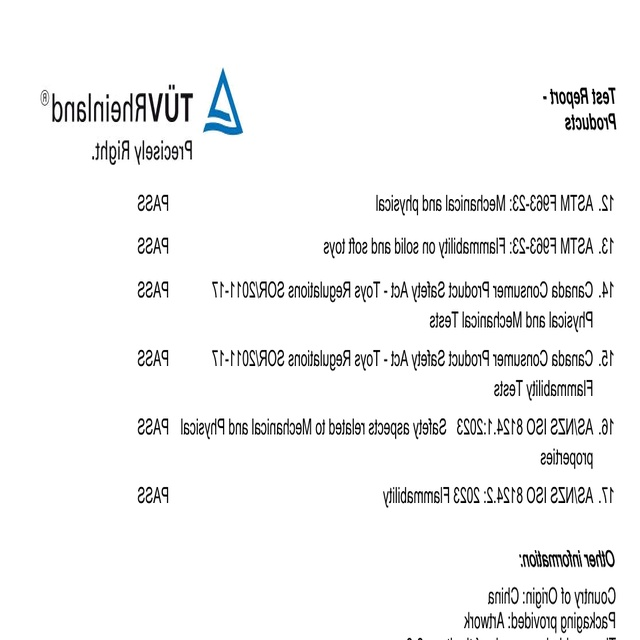tuv_rheinland: (37, 64, 249, 137)
